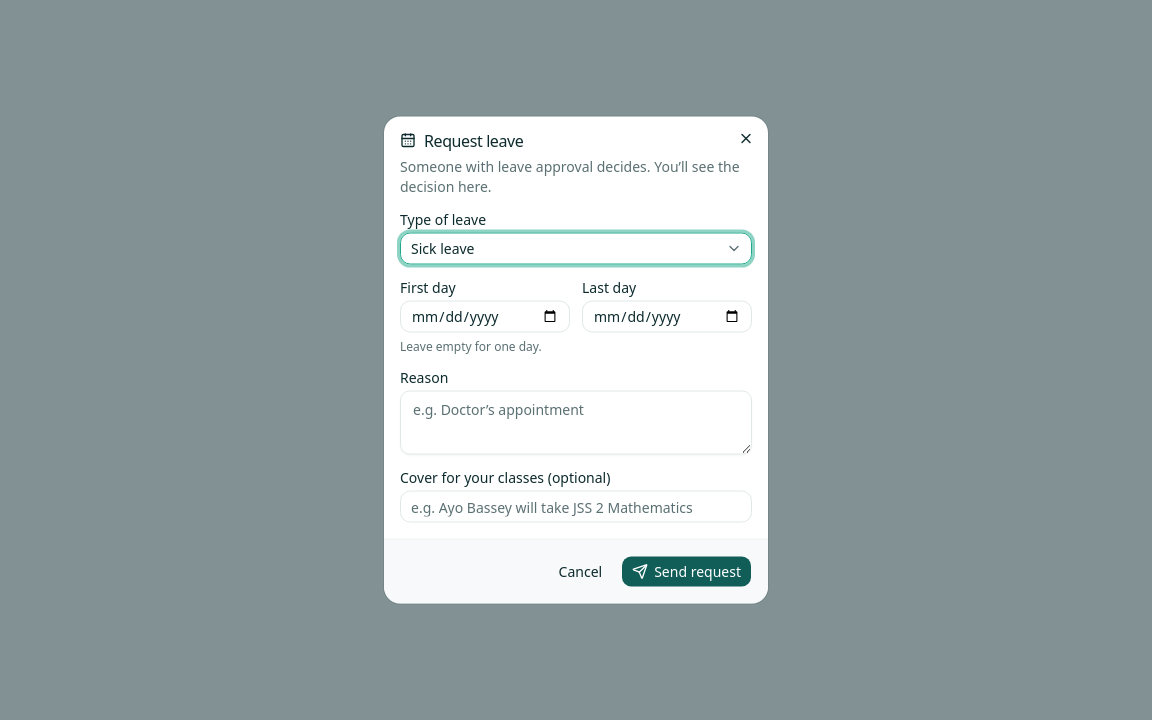
Test: RequestLeaveDialog › asks for a first day and a reason before sending
The width and height of the screenshot is (1152, 720).
Click the button "Send request" at (687, 572), box [621, 556, 752, 588]
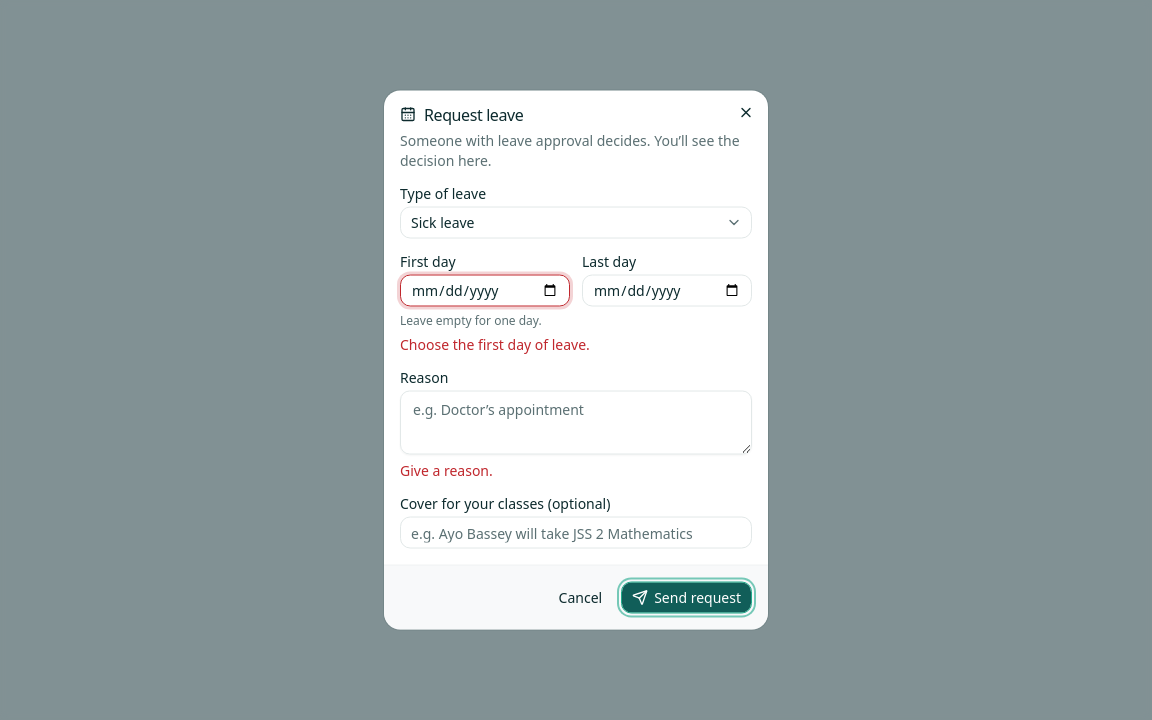
Now the text "Choose the first day of leave." is shown, box [400, 334, 590, 354]
Now the text "Give a reason." is shown, box [400, 460, 493, 480]
